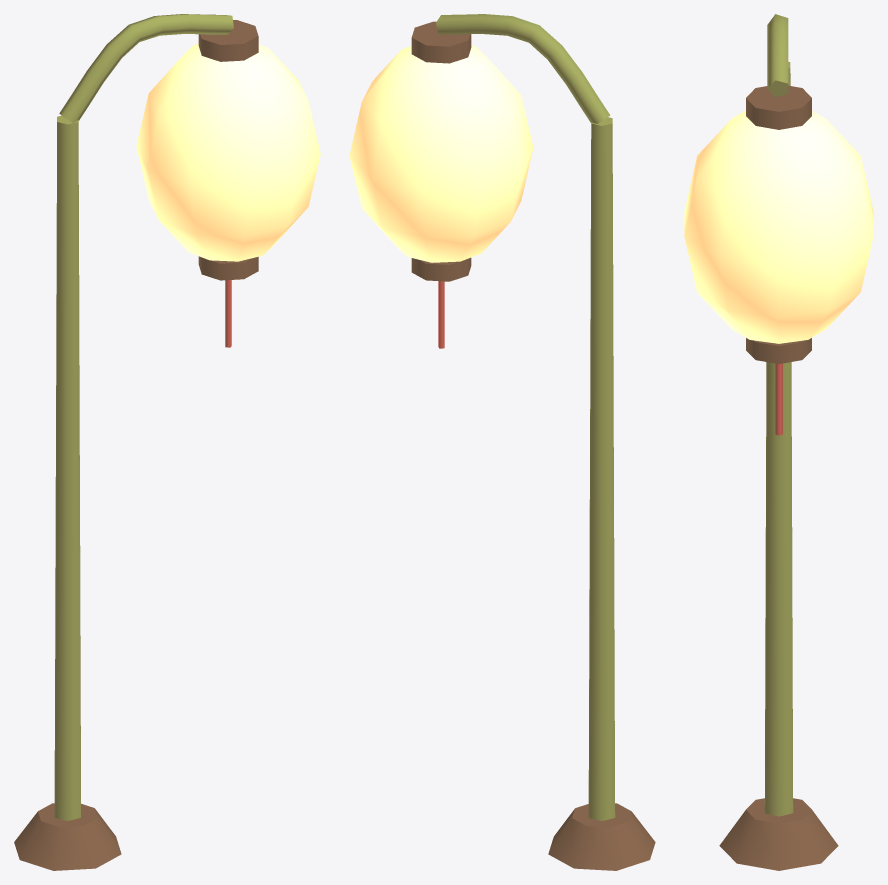
File: prop_tc_long_den_giay.fbbd370512.glb
The picture shows the model from 3 angles, left to right: view 1: azimuth 30°, elevation 25°; view 2: azimuth 150°, elevation 25°; view 3: azimuth 270°, elevation 25°; orthographic projection. The views are drawn at different scales.
Parts seen in each view (by area): view 1: prop_tc_long_den_giay; view 2: prop_tc_long_den_giay; view 3: prop_tc_long_den_giay.
Part boxes in pixels (x1,y1,x2,y2): prop_tc_long_den_giay: (14,14,320,870); prop_tc_long_den_giay: (349,14,655,870); prop_tc_long_den_giay: (684,14,873,870).
Size of what is drawn, in the model's own units: 1.08 by 2.89 by 0.5706.
